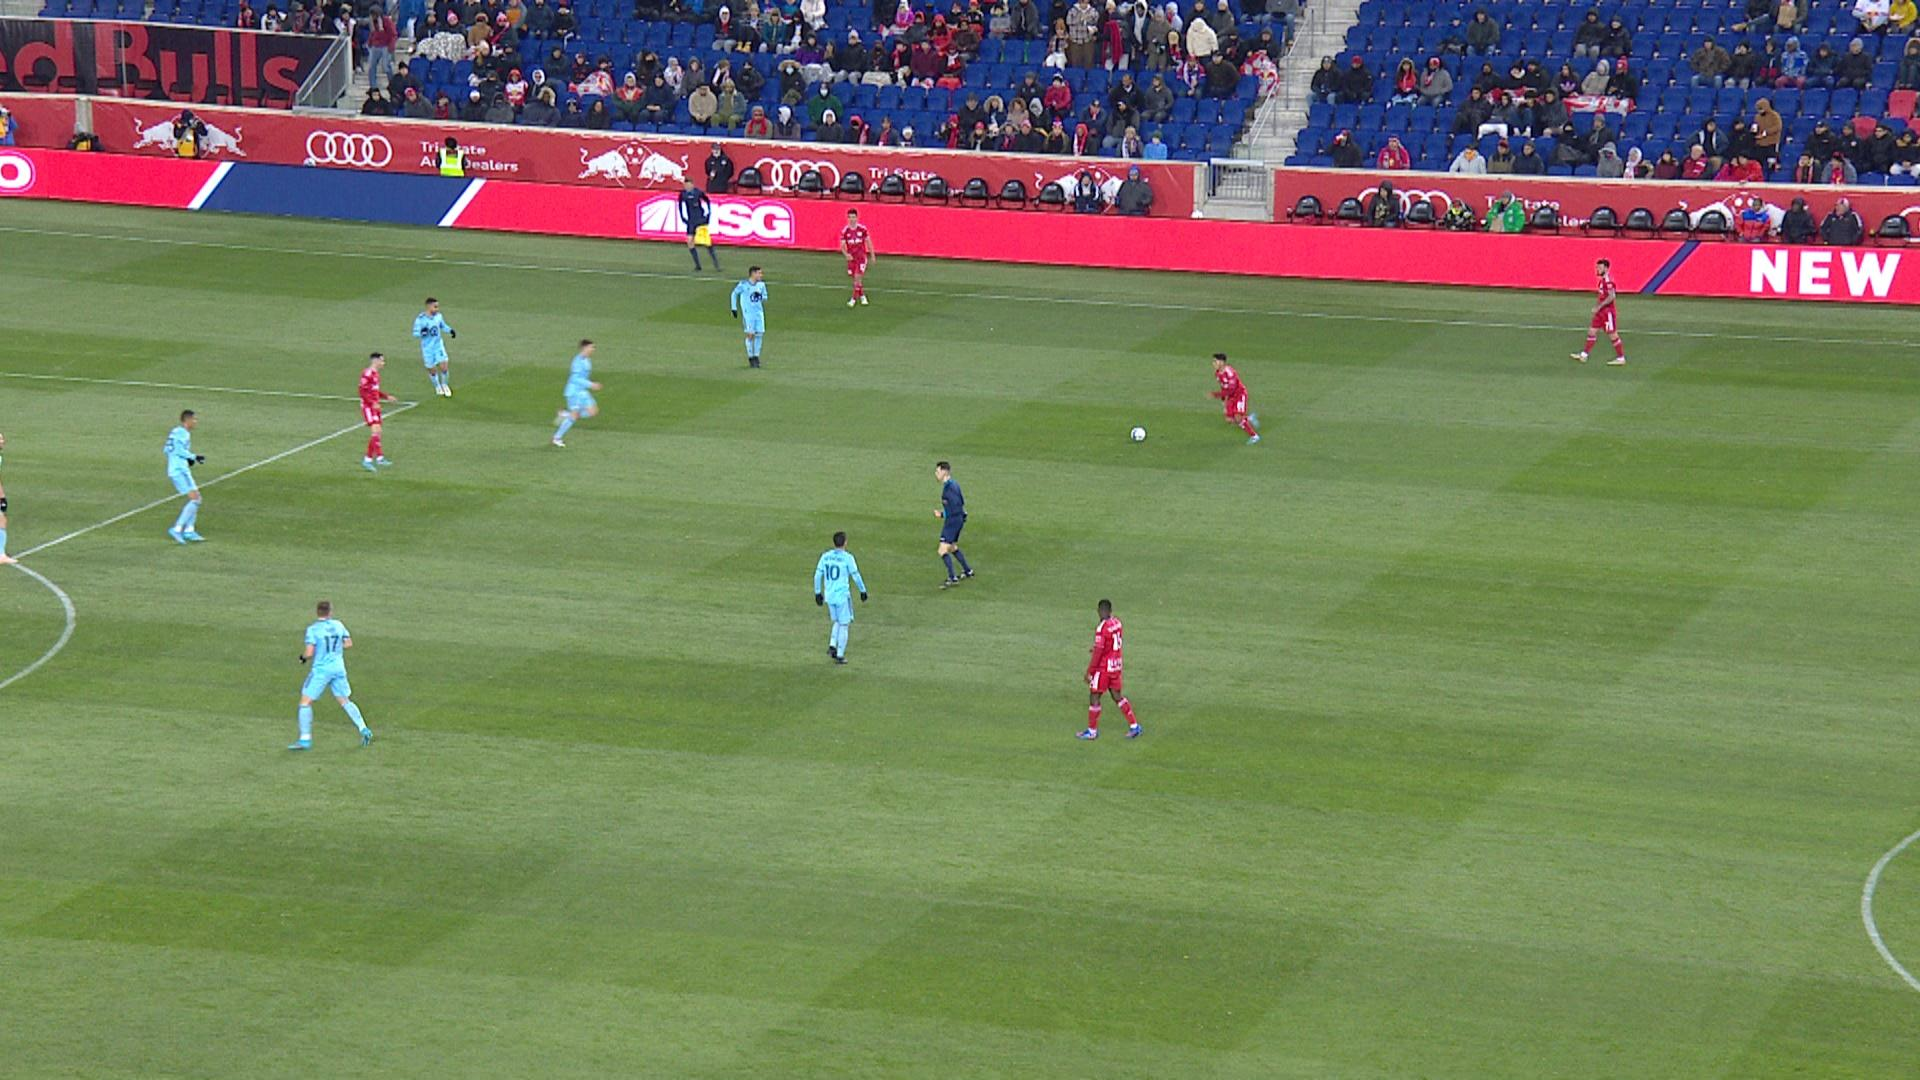football: (1130, 425, 1147, 442)
